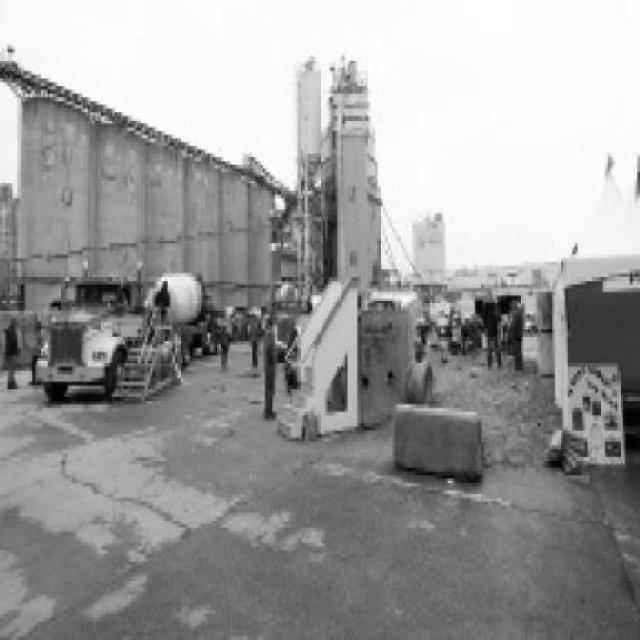Concrete Mixer: (35, 251, 222, 402)
